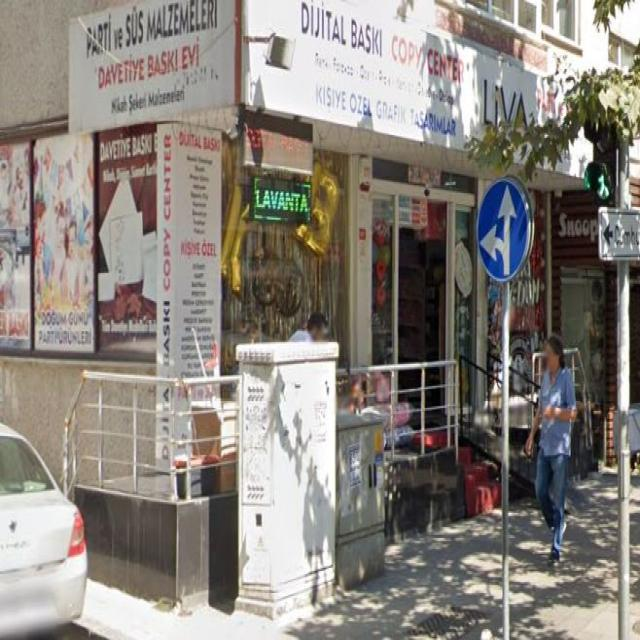ilerisol: (478, 179, 528, 279)
